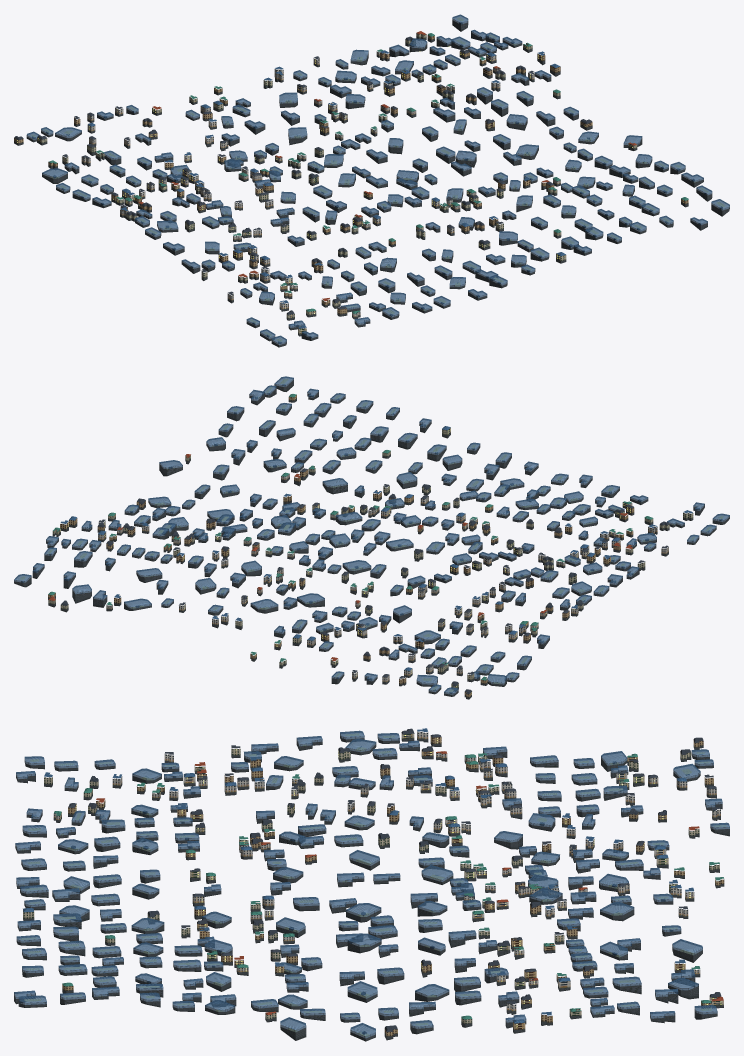
Rendered from osm_buildings_T_E02_N01_Q4.glb.
3 renders of one model, top to bottom at view 1: azimuth 30°, elevation 25°; view 2: azimuth 150°, elevation 25°; view 3: azimuth 270°, elevation 25°, orthographic. The views are drawn at different scales.
Parts seen in each view (by area): view 1: OSM_T_E02_N01_Q4_greenhouse_blend, OSM_T_E02_N01_Q4_foundation, OSM_T_E02_N01_Q4_wall_french_ochre, OSM_T_E02_N01_Q4_wall_cream_stucco, OSM_T_E02_N01_Q4_roof_mansard_slate, OSM_T_E02_N01_Q4_wall_warm_white, OSM_T_E02_N01_Q4_window_emissive_warm, OSM_T_E02_N01_Q4_roof_mansard_deck, OSM_T_E02_N01_Q4_wall_pastel_sand, OSM_T_E02_N01_Q4_roof_alpine_blue, OSM_T_E02_N01_Q4_roof_mint_metal; view 2: OSM_T_E02_N01_Q4_greenhouse_blend, OSM_T_E02_N01_Q4_foundation, OSM_T_E02_N01_Q4_wall_french_ochre, OSM_T_E02_N01_Q4_wall_cream_stucco, OSM_T_E02_N01_Q4_roof_mansard_slate, OSM_T_E02_N01_Q4_roof_mansard_deck, OSM_T_E02_N01_Q4_wall_warm_white, OSM_T_E02_N01_Q4_window_emissive_warm, OSM_T_E02_N01_Q4_wall_pastel_sand, OSM_T_E02_N01_Q4_roof_alpine_blue, OSM_T_E02_N01_Q4_roof_mint_metal; view 3: OSM_T_E02_N01_Q4_greenhouse_blend, OSM_T_E02_N01_Q4_foundation, OSM_T_E02_N01_Q4_wall_french_ochre, OSM_T_E02_N01_Q4_roof_mansard_deck, OSM_T_E02_N01_Q4_wall_cream_stucco, OSM_T_E02_N01_Q4_roof_mansard_slate, OSM_T_E02_N01_Q4_wall_warm_white, OSM_T_E02_N01_Q4_window_emissive_warm, OSM_T_E02_N01_Q4_wall_pastel_sand, OSM_T_E02_N01_Q4_roof_alpine_blue, OSM_T_E02_N01_Q4_roof_mint_metal, OSM_T_E02_N01_Q4_trim_cornice.
Part boxes in pixels (<box>): OSM_T_E02_N01_Q4_greenhouse_blend: <box>26,14,729,344</box>; OSM_T_E02_N01_Q4_foundation: <box>14,20,729,347</box>; OSM_T_E02_N01_Q4_wall_french_ochre: <box>14,35,688,314</box>; OSM_T_E02_N01_Q4_wall_cream_stucco: <box>37,33,637,334</box>; OSM_T_E02_N01_Q4_roof_mansard_slate: <box>14,38,592,314</box>; OSM_T_E02_N01_Q4_wall_warm_white: <box>81,67,560,309</box>; OSM_T_E02_N01_Q4_window_emissive_warm: <box>17,18,724,341</box>; OSM_T_E02_N01_Q4_roof_mansard_deck: <box>15,19,722,342</box>; OSM_T_E02_N01_Q4_wall_pastel_sand: <box>89,51,500,317</box>; OSM_T_E02_N01_Q4_roof_alpine_blue: <box>88,50,565,328</box>; OSM_T_E02_N01_Q4_roof_mint_metal: <box>49,33,688,313</box>; OSM_T_E02_N01_Q4_greenhouse_blend: <box>14,376,729,694</box>; OSM_T_E02_N01_Q4_foundation: <box>14,380,729,699</box>; OSM_T_E02_N01_Q4_wall_french_ochre: <box>48,395,634,697</box>; OSM_T_E02_N01_Q4_wall_cream_stucco: <box>48,428,693,688</box>; OSM_T_E02_N01_Q4_roof_mansard_slate: <box>61,468,669,693</box>; OSM_T_E02_N01_Q4_roof_mansard_deck: <box>14,383,728,694</box>; OSM_T_E02_N01_Q4_wall_warm_white: <box>98,474,657,682</box>; OSM_T_E02_N01_Q4_window_emissive_warm: <box>20,379,722,692</box>; OSM_T_E02_N01_Q4_wall_pastel_sand: <box>98,502,668,672</box>; OSM_T_E02_N01_Q4_roof_alpine_blue: <box>60,426,692,670</box>; OSM_T_E02_N01_Q4_roof_mint_metal: <box>48,394,653,680</box>; OSM_T_E02_N01_Q4_greenhouse_blend: <box>14,730,729,1038</box>; OSM_T_E02_N01_Q4_foundation: <box>14,735,729,1041</box>; OSM_T_E02_N01_Q4_wall_french_ochre: <box>62,735,724,1036</box>; OSM_T_E02_N01_Q4_roof_mansard_deck: <box>14,728,725,1037</box>; OSM_T_E02_N01_Q4_wall_cream_stucco: <box>23,733,723,1023</box>; OSM_T_E02_N01_Q4_roof_mansard_slate: <box>68,729,721,1031</box>; OSM_T_E02_N01_Q4_wall_warm_white: <box>112,753,720,1011</box>; OSM_T_E02_N01_Q4_window_emissive_warm: <box>21,734,725,1036</box>; OSM_T_E02_N01_Q4_wall_pastel_sand: <box>53,731,700,988</box>; OSM_T_E02_N01_Q4_roof_alpine_blue: <box>23,728,693,1023</box>; OSM_T_E02_N01_Q4_roof_mint_metal: <box>54,753,723,1019</box>; OSM_T_E02_N01_Q4_trim_cornice: <box>26,732,720,1032</box>.
Size of the model in its own units: 965 by 84.66 by 975.
16 materials, 16 textured.
